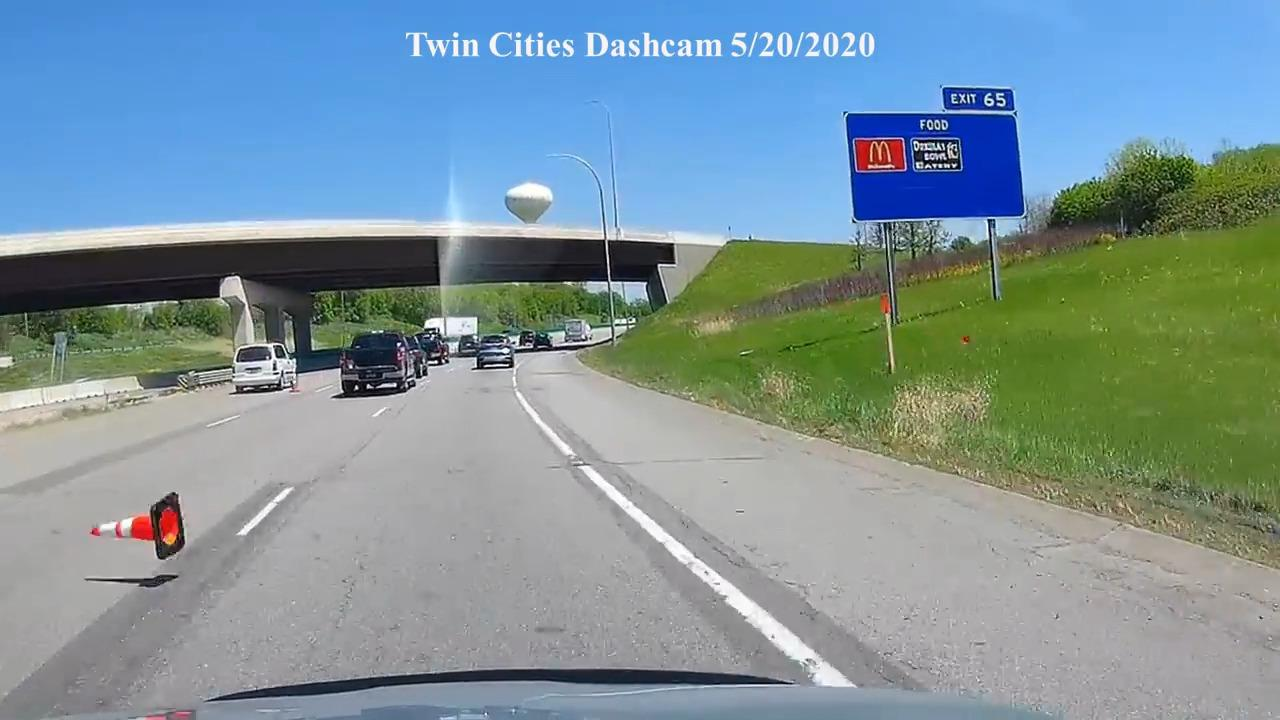car: (231, 343, 299, 394)
traffic cone: (90, 492, 187, 560)
traffic light: (88, 492, 186, 560)
